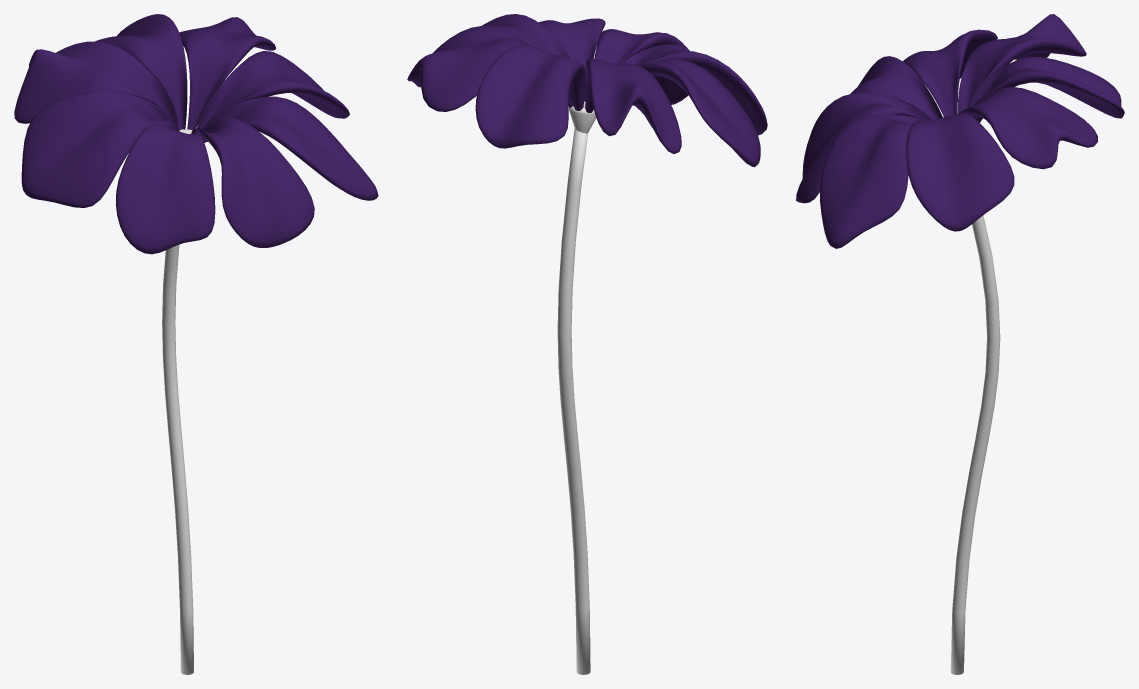
File: floresmale2.fbx
3 views of the same model, side by side, from view 1: azimuth 30°, elevation 25°; view 2: azimuth 150°, elevation 25°; view 3: azimuth 270°, elevation 25° (orthographic). The views are drawn at different scales.
Parts seen in each view (by area): view 1: Cube.134, Cube.135, Cube.139, Cube.133, Cube.138, BézierCurve.009, Cube.137, Cube.136, Cube.132; view 2: Cube.132, BézierCurve.009, Cube.136, Cube.133, Cube.134, Cube.135, Cube.139, Cube.138, Cube.137; view 3: Cube.137, Cube.138, BézierCurve.009, Cube.136, Cube.133, Cube.132, Cube.139, Cube.134, Cube.135.
Part boxes in pixels (x1=…): Cube.134: x1=21, y1=91, x2=171, y2=207; Cube.135: x1=116, y1=121, x2=215, y2=254; Cube.139: x1=196, y1=117, x2=314, y2=247; Cube.133: x1=14, y1=41, x2=177, y2=125; Cube.138: x1=203, y1=96, x2=378, y2=200; BézierCurve.009: x1=162, y1=245, x2=193, y2=674; Cube.137: x1=197, y1=51, x2=349, y2=129; Cube.136: x1=179, y1=17, x2=275, y2=130; Cube.132: x1=96, y1=14, x2=187, y2=129; Cube.132: x1=475, y1=45, x2=585, y2=148; BézierCurve.009: x1=557, y1=128, x2=590, y2=674; Cube.136: x1=407, y1=25, x2=573, y2=111; Cube.133: x1=585, y1=59, x2=681, y2=153; Cube.134: x1=637, y1=59, x2=760, y2=167; Cube.135: x1=621, y1=44, x2=767, y2=135; Cube.139: x1=594, y1=29, x2=688, y2=104; Cube.138: x1=538, y1=18, x2=605, y2=101; Cube.137: x1=411, y1=14, x2=567, y2=87; Cube.137: x1=906, y1=112, x2=1014, y2=231; Cube.138: x1=820, y1=115, x2=920, y2=248; BézierCurve.009: x1=950, y1=215, x2=1000, y2=674; Cube.136: x1=960, y1=87, x2=1097, y2=169; Cube.133: x1=958, y1=14, x2=1086, y2=113; Cube.132: x1=969, y1=57, x2=1124, y2=122; Cube.139: x1=796, y1=93, x2=930, y2=203; Cube.134: x1=903, y1=29, x2=997, y2=116; Cube.135: x1=850, y1=56, x2=942, y2=119.
Size of the model in its own units: 38.1 by 70.45 by 34.3.
